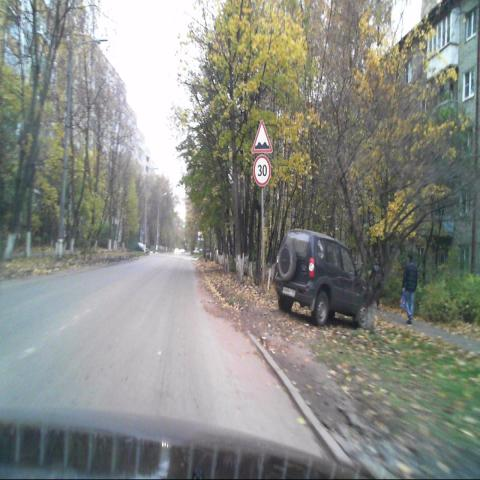1_16: (252, 121, 272, 154)
